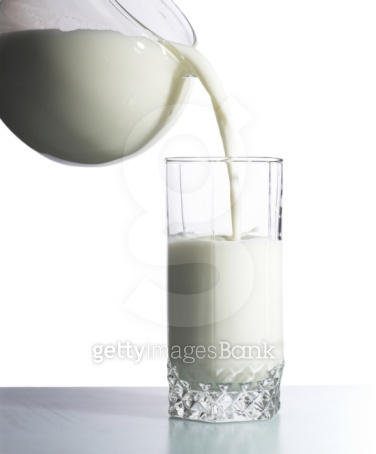glass of milk: (165, 150, 284, 417), (1, 1, 182, 160)
